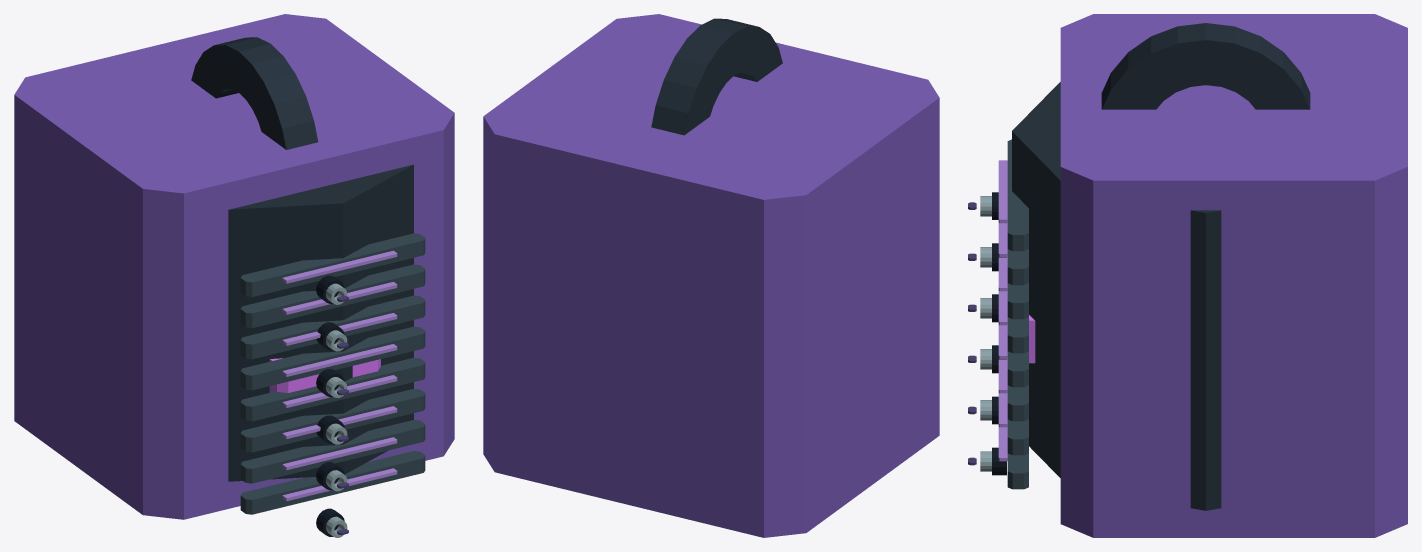
The model's file is enemy_tank_4k_forearm_l.obj.
3 views of the same model, side by side, from view 1: azimuth 30°, elevation 25°; view 2: azimuth 150°, elevation 25°; view 3: azimuth 270°, elevation 25° (orthographic). The views are drawn at different scales.
Size of the model in its own units: 0.4268 by 0.5318 by 0.4685.
